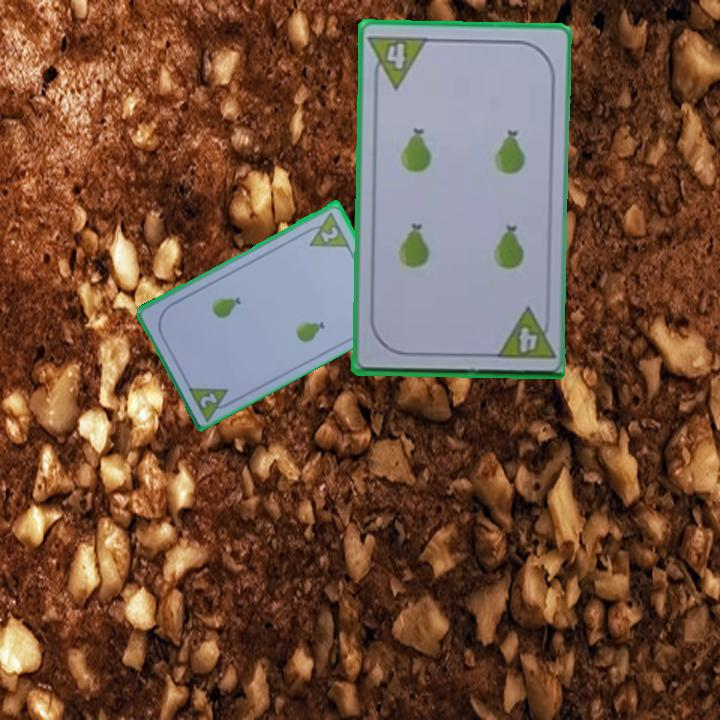2p: (317, 222, 342, 245), (196, 388, 220, 411)
4p: (365, 31, 430, 91), (491, 305, 556, 362)
